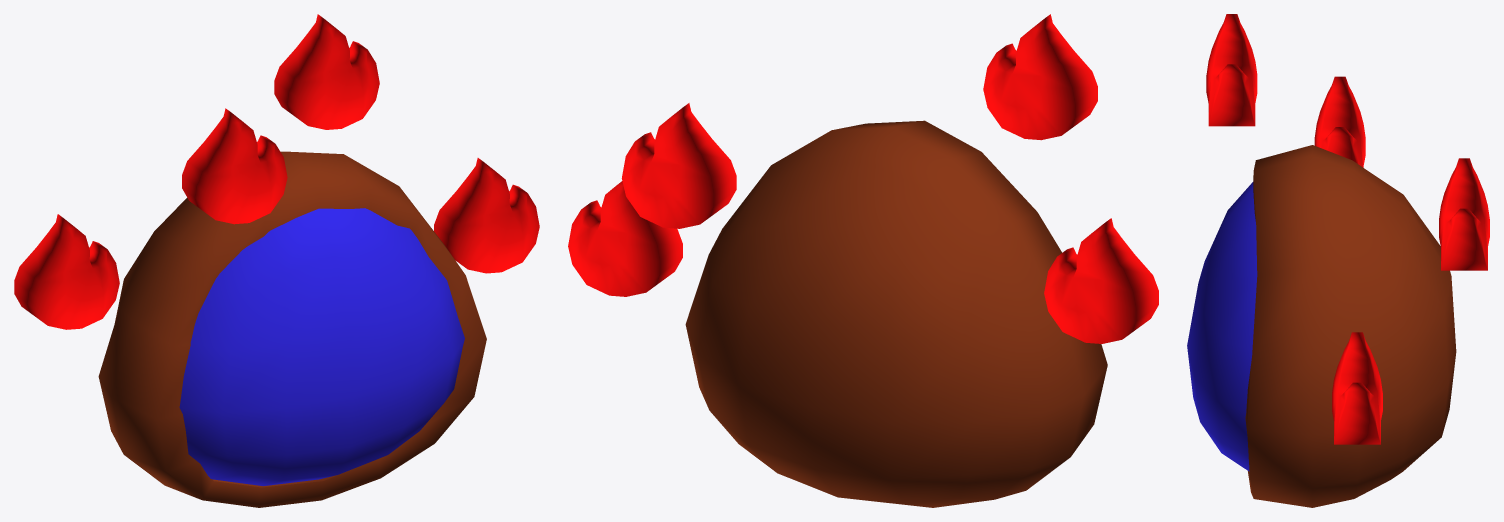
File: unit_fire.fbx
3 views of the same model, side by side, from view 1: azimuth 30°, elevation 25°; view 2: azimuth 150°, elevation 25°; view 3: azimuth 270°, elevation 25° (orthographic). The views are drawn at different scales.
Visible parts, largest first — view 1: Object006, Object001, Object004, Object002, Object005, Object003; view 2: Object001, Object002, Object004, Object005, Object003; view 3: Object001, Object006, Object005, Object003, Object002, Object004.
Part boxes in pixels (bbox=[...]): Object006: bbox=[179, 208, 464, 486]; Object001: bbox=[98, 151, 486, 507]; Object004: bbox=[14, 214, 119, 329]; Object002: bbox=[274, 14, 379, 129]; Object005: bbox=[182, 108, 287, 224]; Object003: bbox=[434, 158, 539, 273]; Object001: bbox=[685, 120, 1107, 507]; Object002: bbox=[621, 103, 736, 228]; Object004: bbox=[1044, 218, 1158, 343]; Object005: bbox=[983, 14, 1097, 140]; Object003: bbox=[568, 181, 682, 296]; Object001: bbox=[1245, 145, 1456, 507]; Object006: bbox=[1187, 182, 1257, 471]; Object005: bbox=[1206, 14, 1257, 126]; Object003: bbox=[1332, 332, 1382, 444]; Object002: bbox=[1439, 158, 1489, 270]; Object004: bbox=[1314, 76, 1365, 167].
Bounding box in the file's own units: 39.8 × 21.03 × 31.69.
